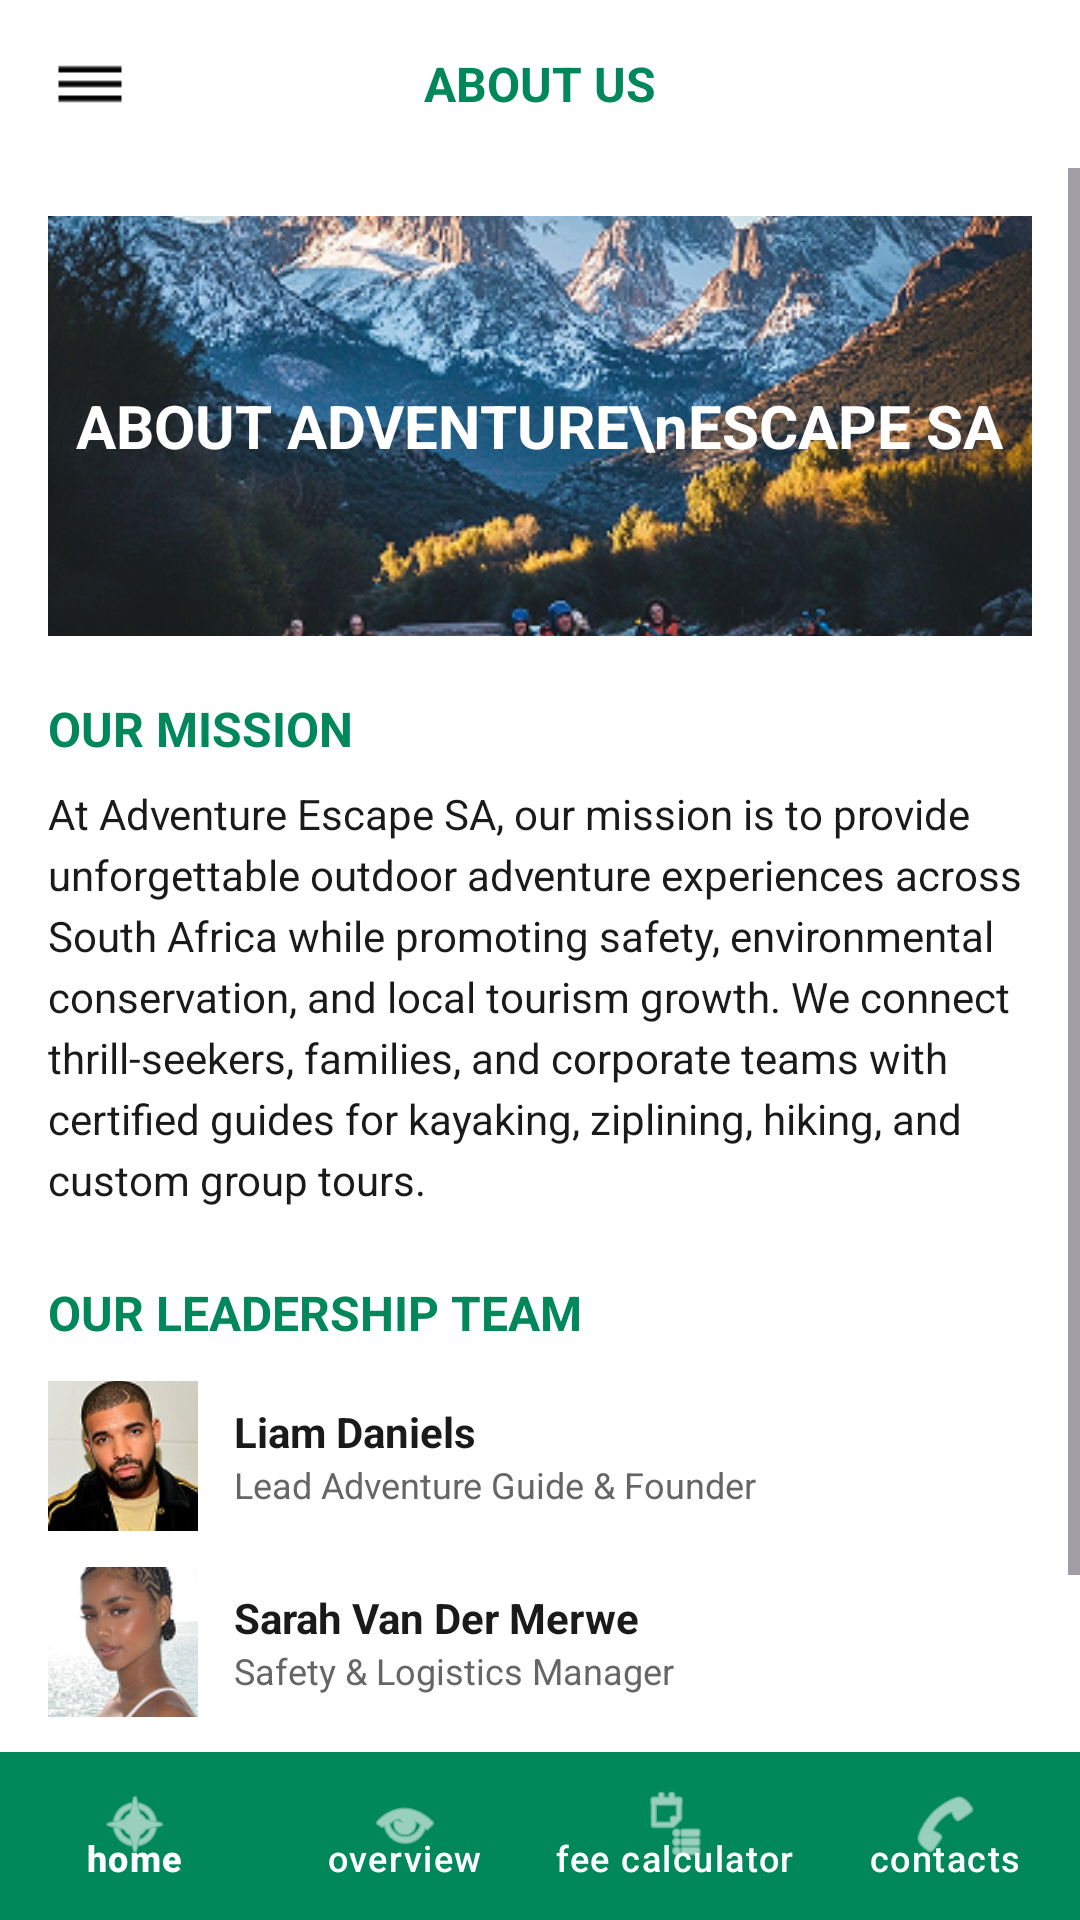

Named icons in this screenshot (1080px×1920px) and their bounding boxes, (x1, y1, x2, y2):
Menu: (58, 65, 122, 103)
